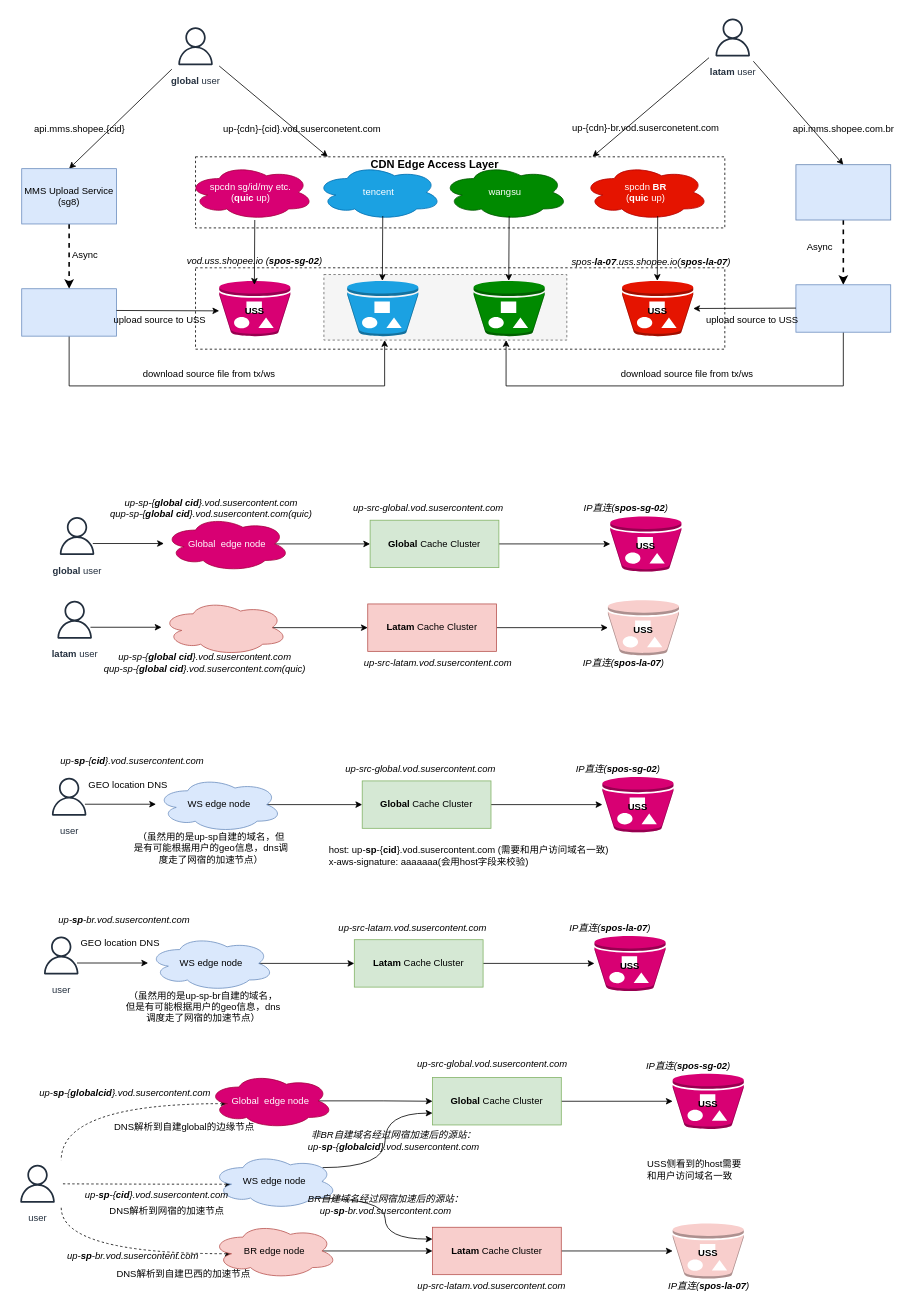
Some shapes in this 915 by 1312 pixel diagram are drawn without their labels. Here are the shapes that lost their labels. From the top down, the centre of each, then its label:
At point 843,192: "MMS Upload Service （us3）".
At point 69,312: "MMS Migrate Service (sg8)".
At point 382,308: "TX OSS".
At point 509,308: "WS OSS".
At point 843,308: "MMS Migrate Service (us3)".
At point 224,627: "US edge node".
